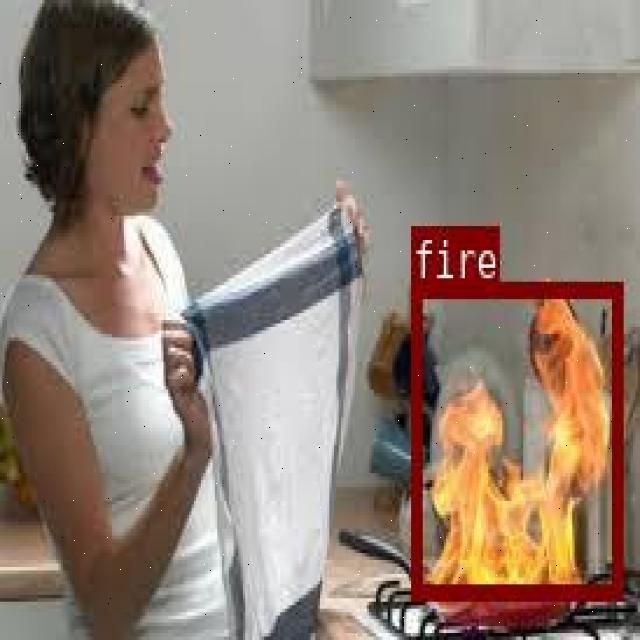fire: (411, 280, 621, 596)
